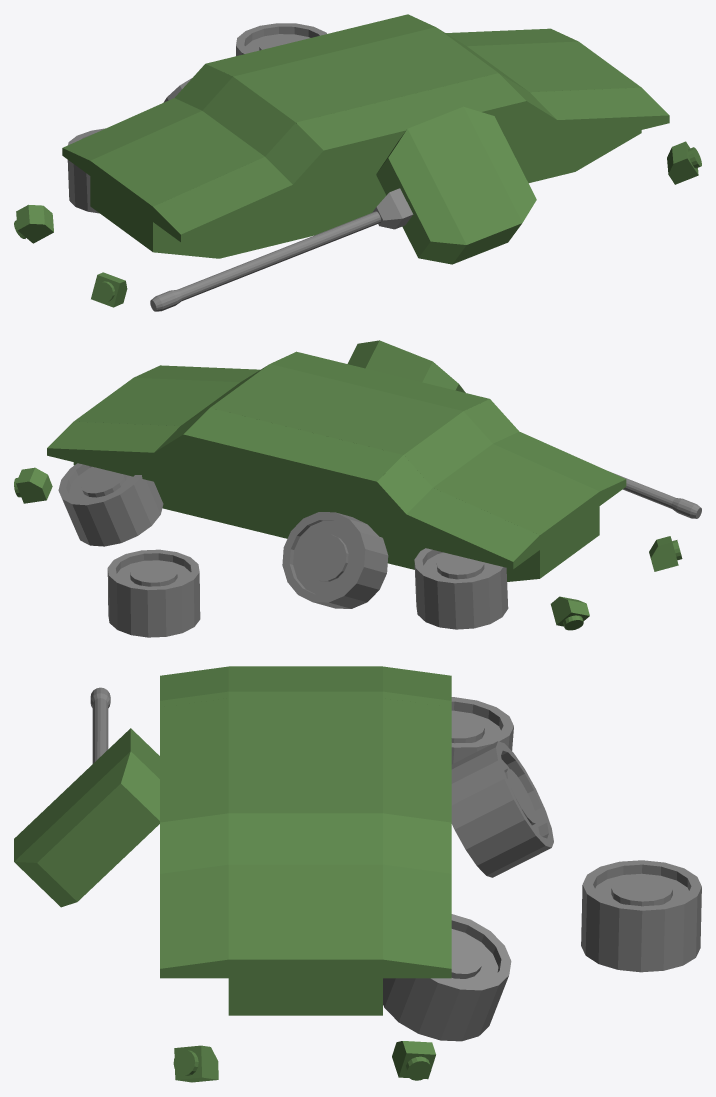
The model's file is tankGreydogDestroyed.glb.
3 renders of one model, top to bottom at view 1: azimuth 30°, elevation 25°; view 2: azimuth 150°, elevation 25°; view 3: azimuth 270°, elevation 25°, orthographic. The views are drawn at different scales.
Visible parts, largest first — view 1: Cube.018, Cube.019, Cube.020, Cylinder.007, Cylinder.005; view 2: Cube.018, Cylinder.006, Cylinder.007, Cylinder.008, Cylinder.005, Cube.019, Cube.020; view 3: Cube.018, Cube.019, Cylinder.007, Cylinder.006, Cylinder.008, Cylinder.005, Cube.020.
Part boxes in pixels (left/top/right/bottom): Cube.018: left=14, top=14, right=701, bottom=307; Cube.019: left=376, top=106, right=536, bottom=264; Cube.020: left=150, top=188, right=413, bottom=311; Cylinder.007: left=236, top=23, right=326, bottom=55; Cylinder.005: left=67, top=128, right=105, bottom=213; Cube.018: left=14, top=351, right=682, bottom=630; Cylinder.006: left=282, top=512, right=388, bottom=608; Cylinder.007: left=107, top=549, right=200, bottom=637; Cylinder.008: left=58, top=463, right=163, bottom=546; Cylinder.005: left=414, top=548, right=508, bottom=629; Cube.019: left=347, top=340, right=465, bottom=392; Cube.020: left=611, top=472, right=701, bottom=518; Cube.018: left=160, top=666, right=451, bottom=1082; Cube.019: left=14, top=728, right=159, bottom=907; Cylinder.007: left=581, top=860, right=701, bottom=972; Cylinder.006: left=451, top=741, right=553, bottom=877; Cylinder.008: left=383, top=914, right=511, bottom=1041; Cylinder.005: left=451, top=697, right=513, bottom=764; Cube.020: left=90, top=687, right=110, bottom=763.
Bounding box in the file's own units: 15.23 × 3.69 × 12.14.
